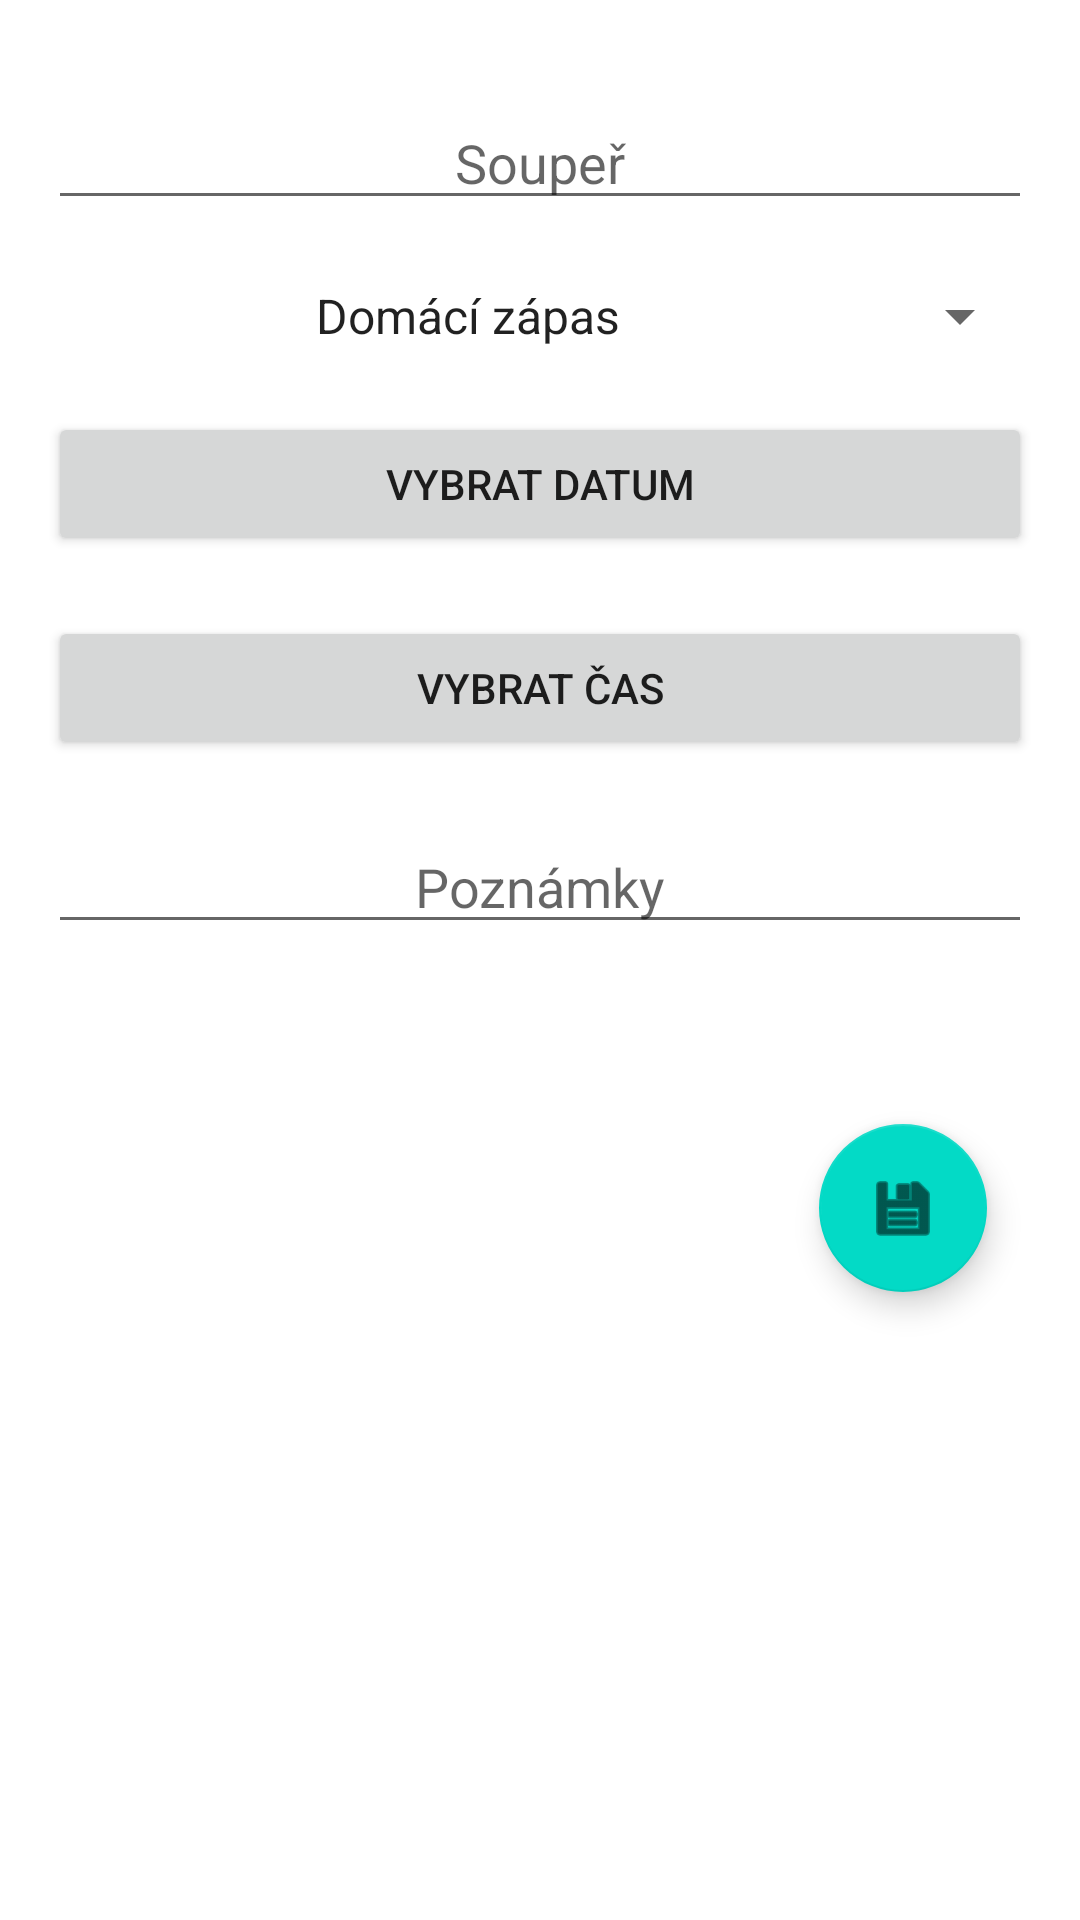

Icon bounding boxes for this 1080w x 1920h phone screenshot, format (x1, y1, x2, y2):
save: (819, 1124, 987, 1292)
